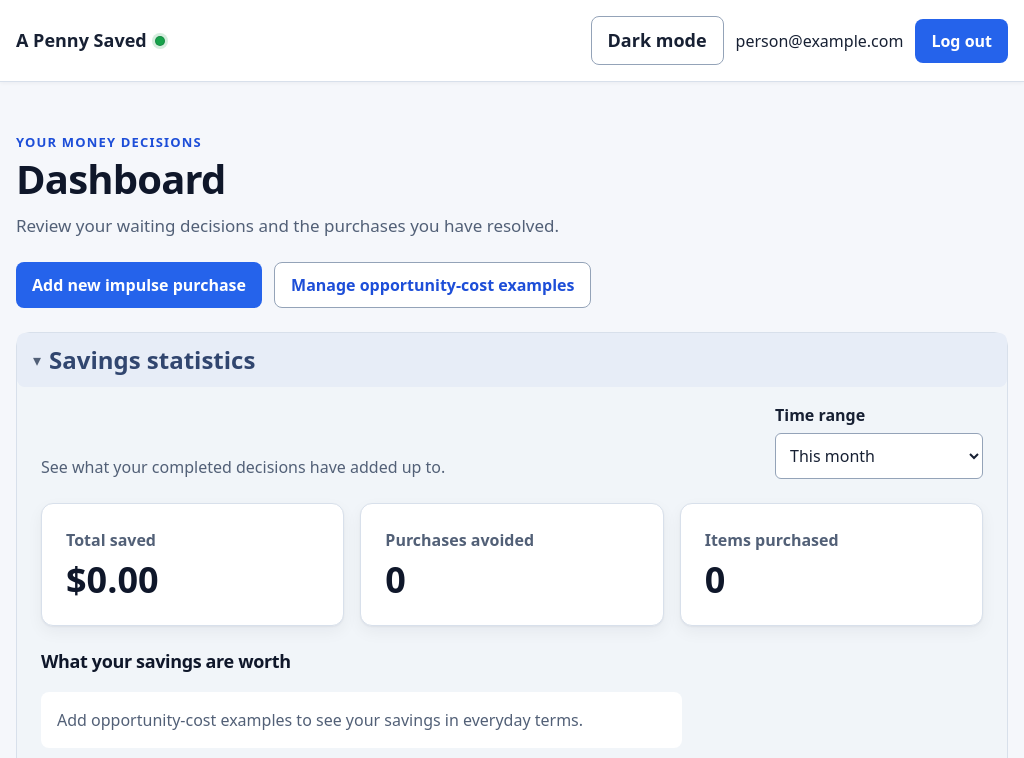
Test case: authentication routes › creates a new entry through the protected route and shows it in Waiting
The width and height of the screenshot is (1024, 758).
Click the link "Add new impulse purchase": (139, 285) [16, 262, 262, 308]
(page scrolled)
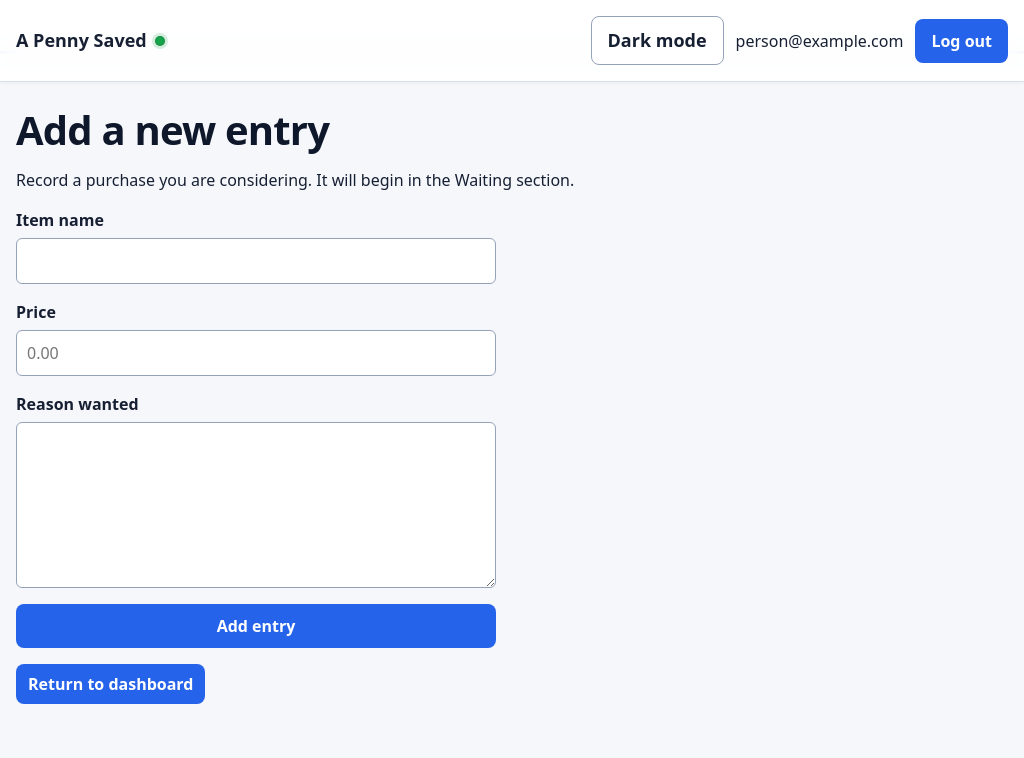
Check: the heading "Add a new entry" is shown, box [16, 102, 329, 157]
In the field labelled "Item name": (256, 261) [16, 238, 496, 284], type "Coffee grinder"
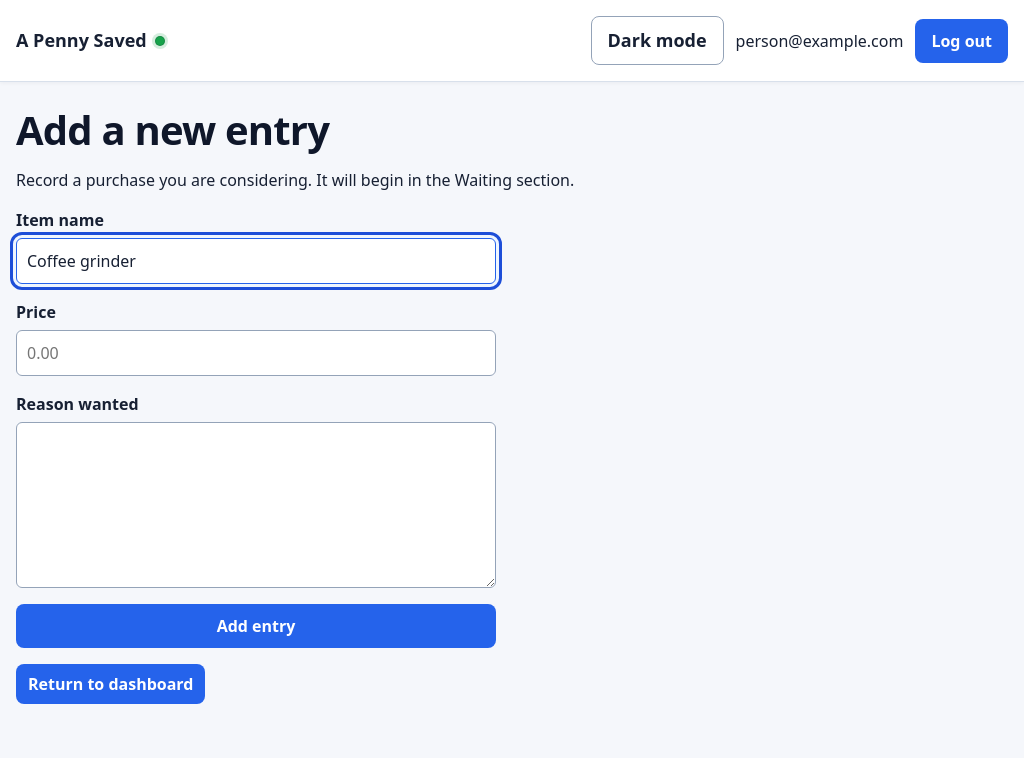
In the field labelled "Price": (256, 353) [16, 330, 496, 376], type "89.99"
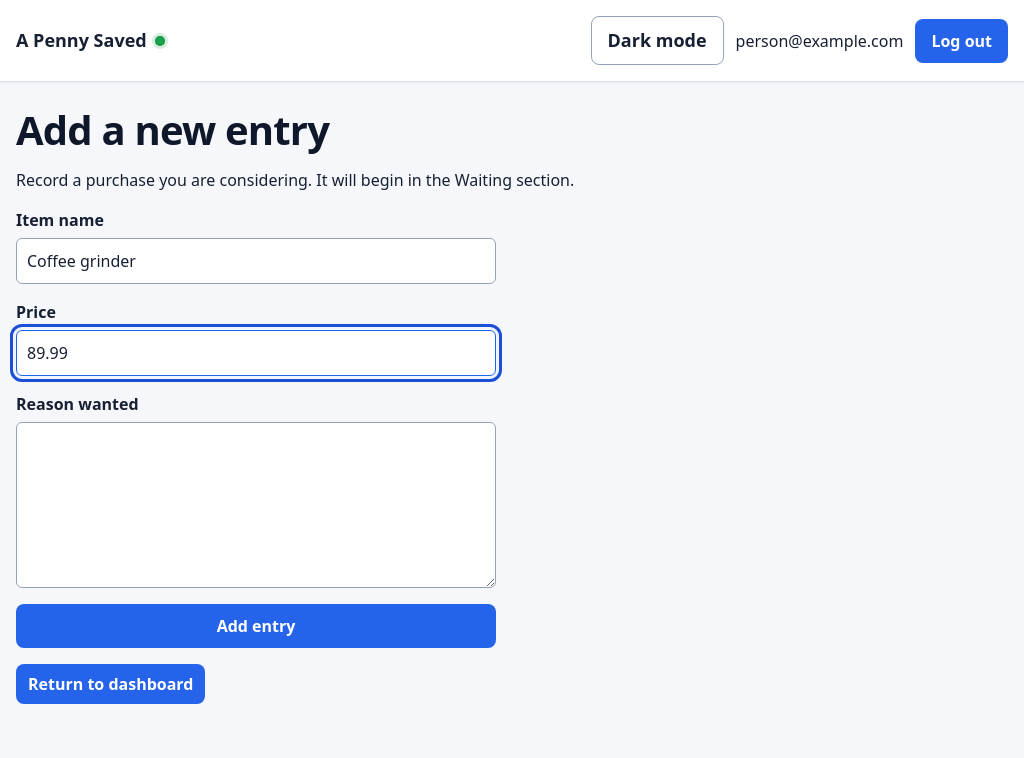
In the text box labelled "Reason wanted": (256, 505) [16, 422, 496, 588], type "Better coffee at home"
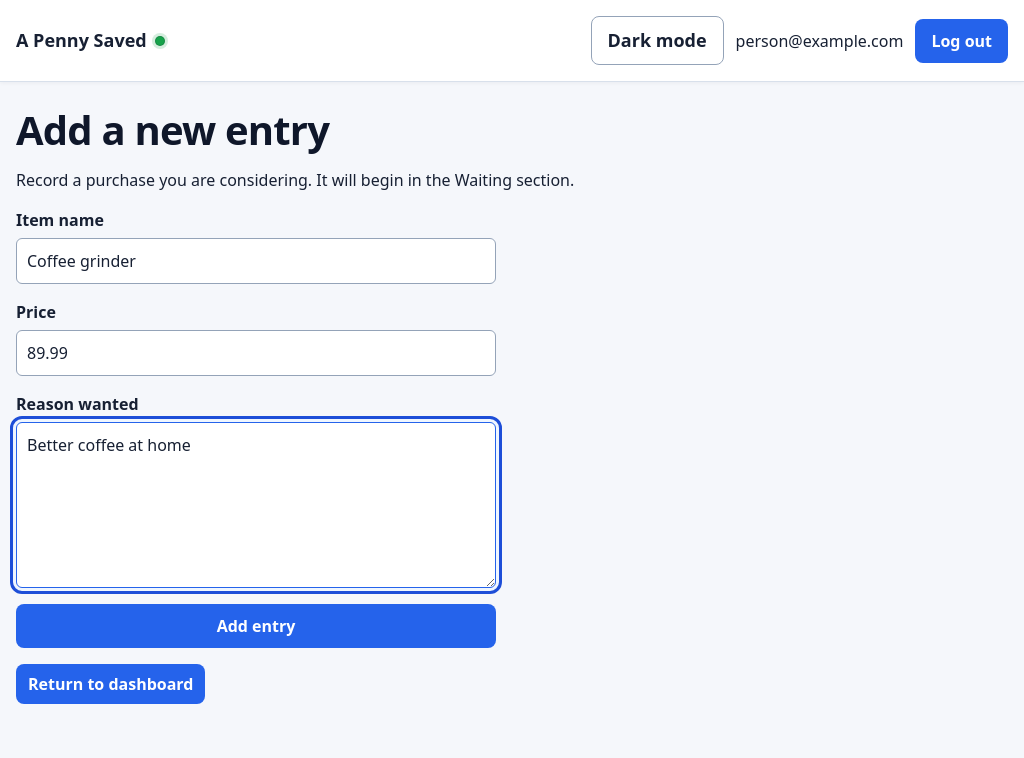
Click the button "Add entry": (256, 626) [16, 604, 496, 648]
(page scrolled)
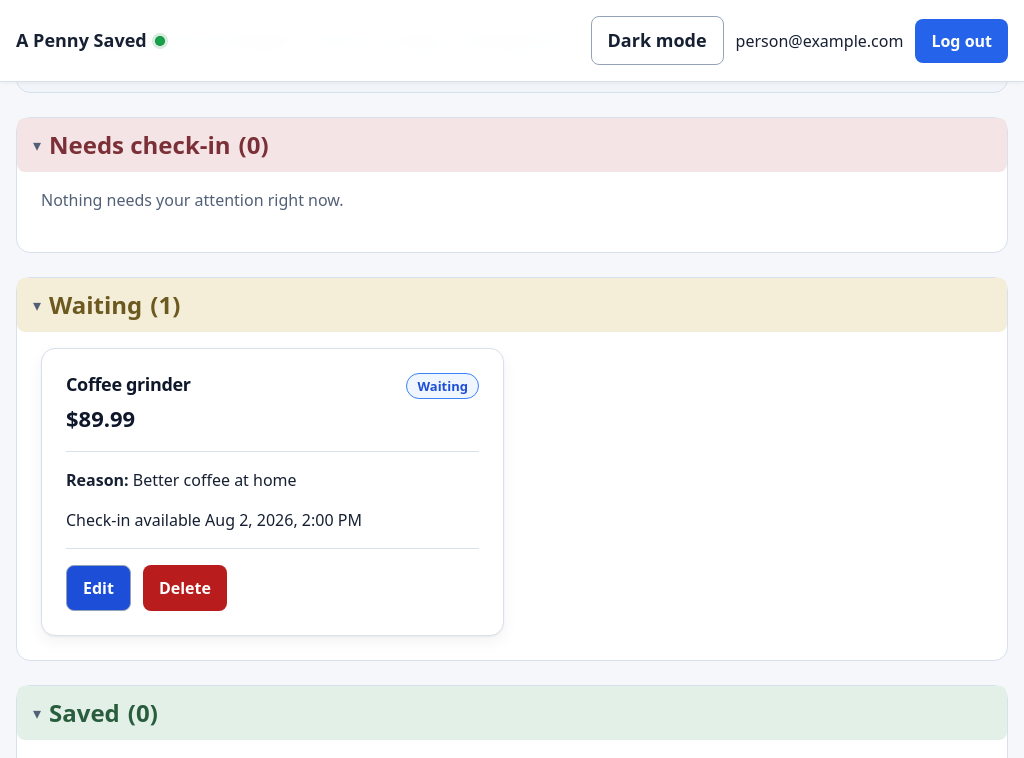
Check: the heading "Coffee grinder" is shown, box [66, 373, 190, 396]
